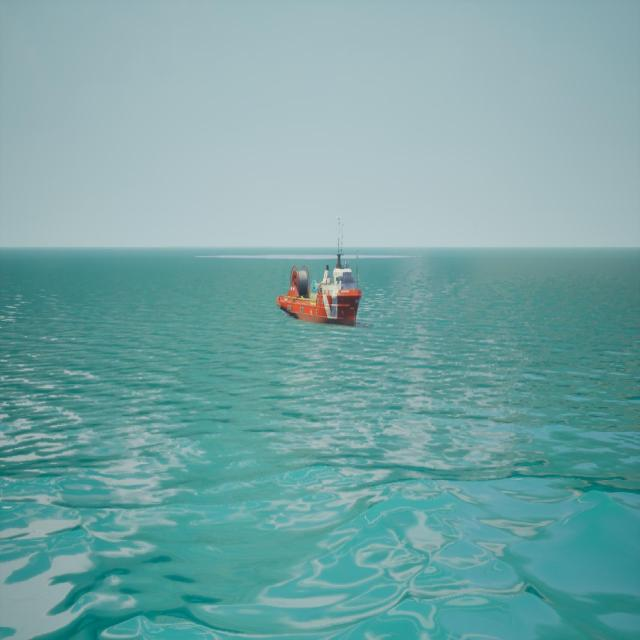tug boat: (278, 217, 365, 330)
